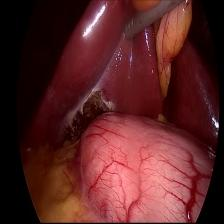Irrigator: (119, 11, 145, 40)
